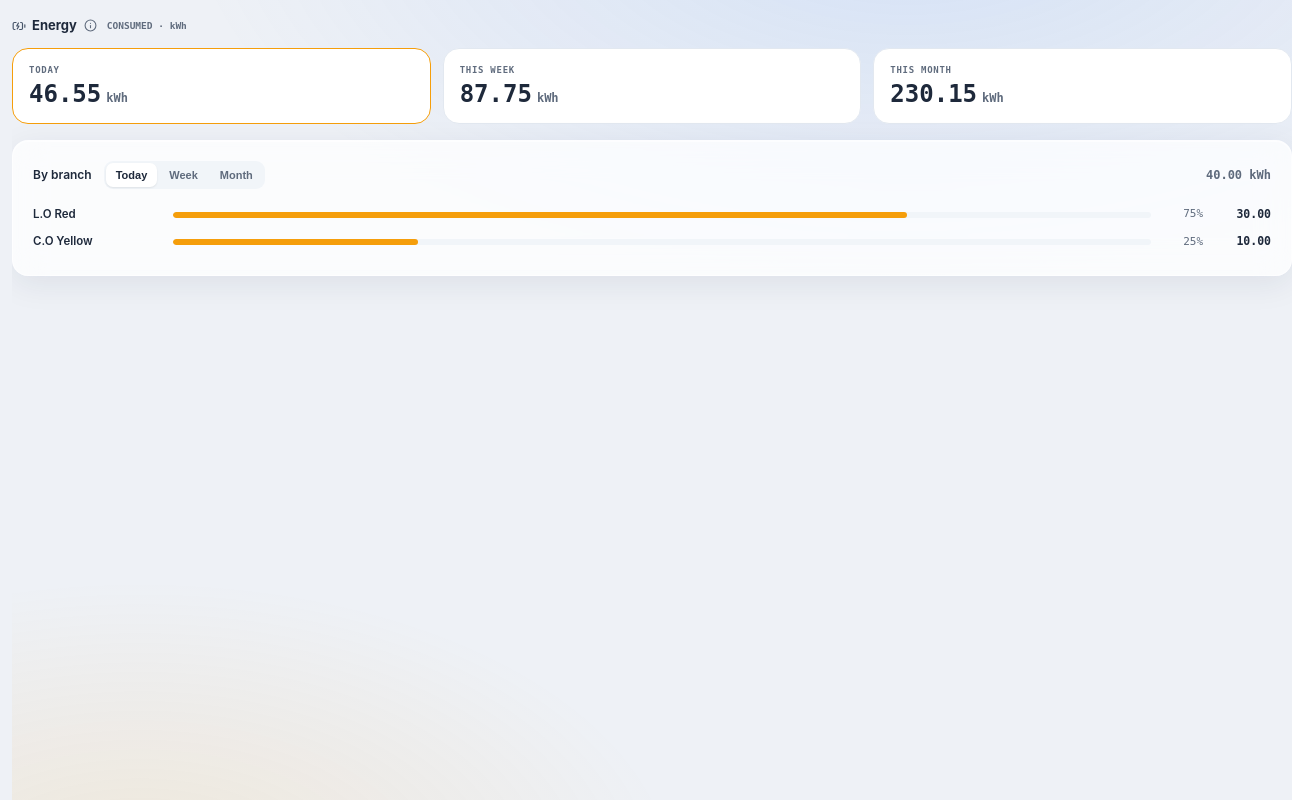
EnergySection › says week/month are not counted yet when the accumulator has no data
Click the button "Week": (184, 175) [159,163,208,187]
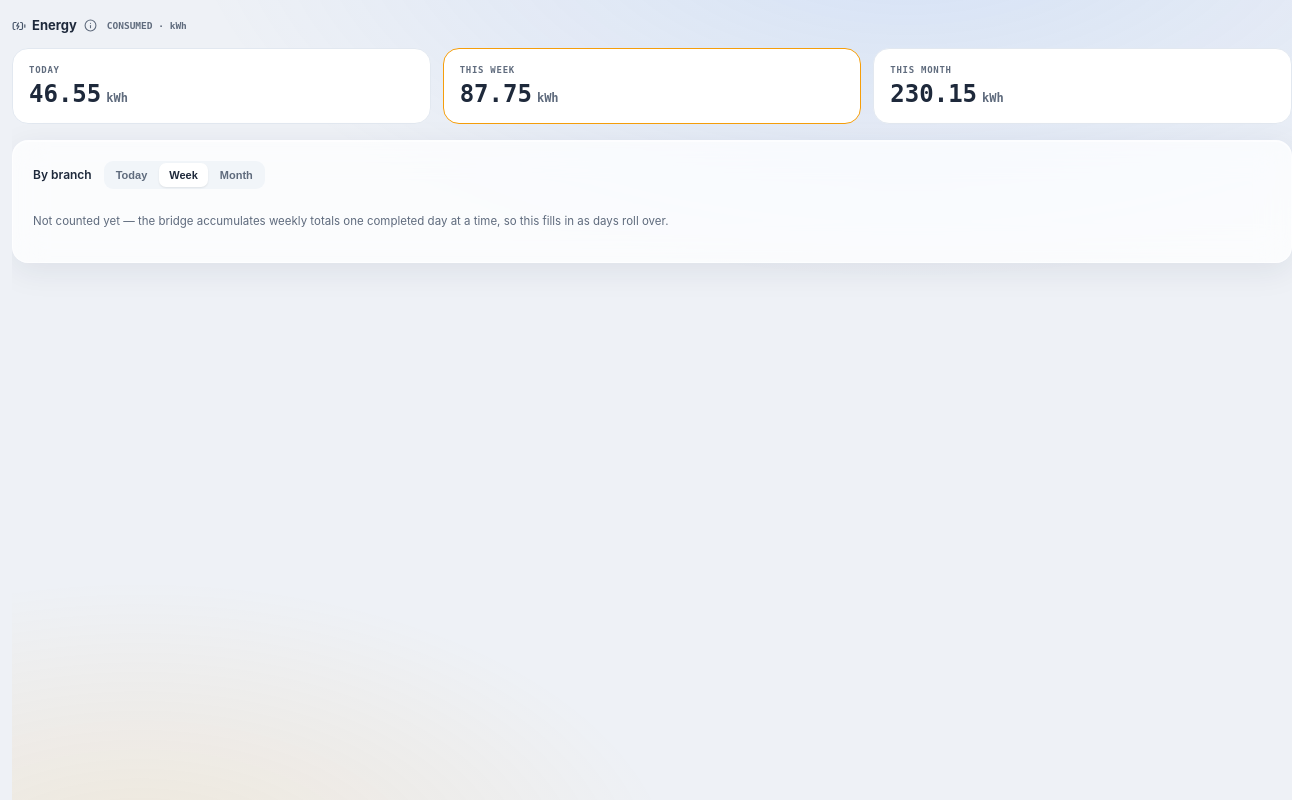
Expected: the text "Not counted yet" is shown, [33,214,668,228]
Expected: the text "0.00 kWh" is gone
Expected: no elements with class "analytics-energy-row" are shown
